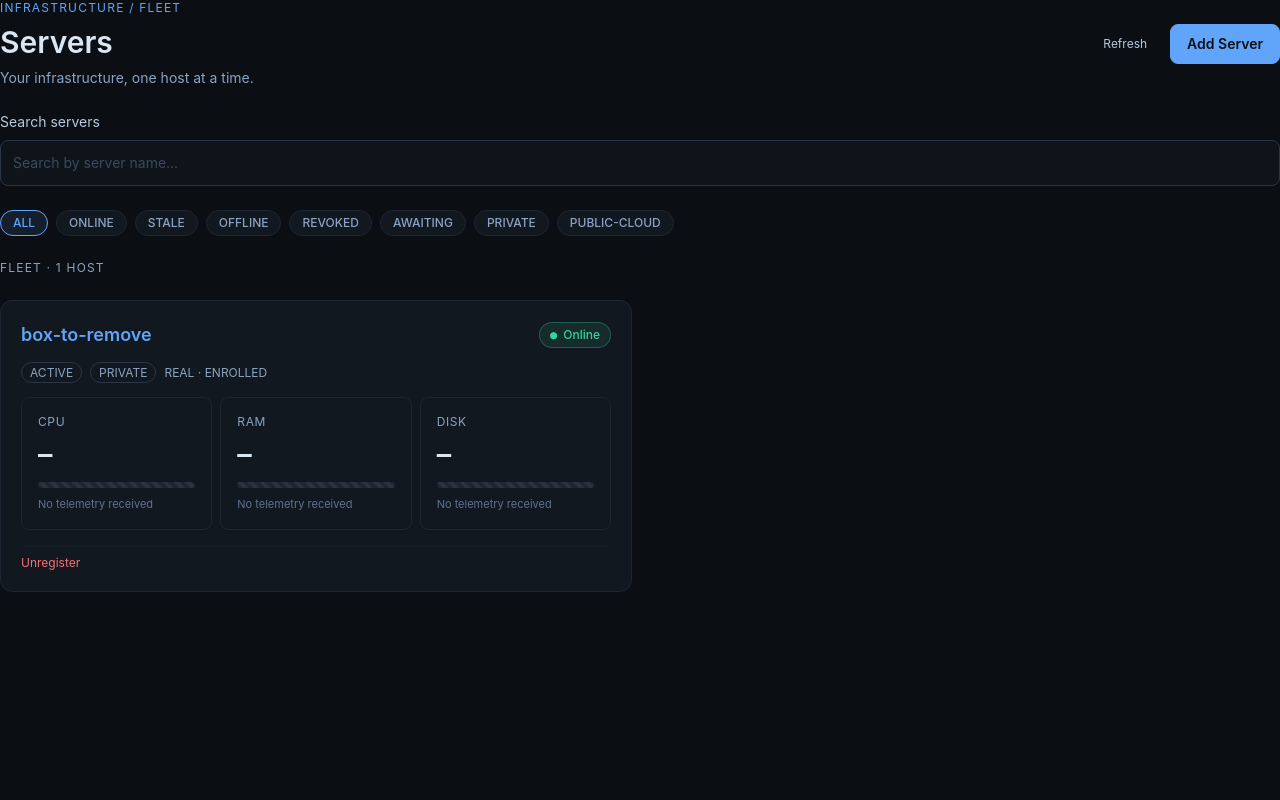
Servers view (fleet + filters + awaiting rows) › safe unregister dialog revokes host upon typed host id confirmation
expect the link "box-to-remove" is shown: met, box [21, 321, 152, 349]
Click the button with aria-label "unregister box-to-remove" at (51, 562), box [21, 554, 80, 570]
(page scrolled)
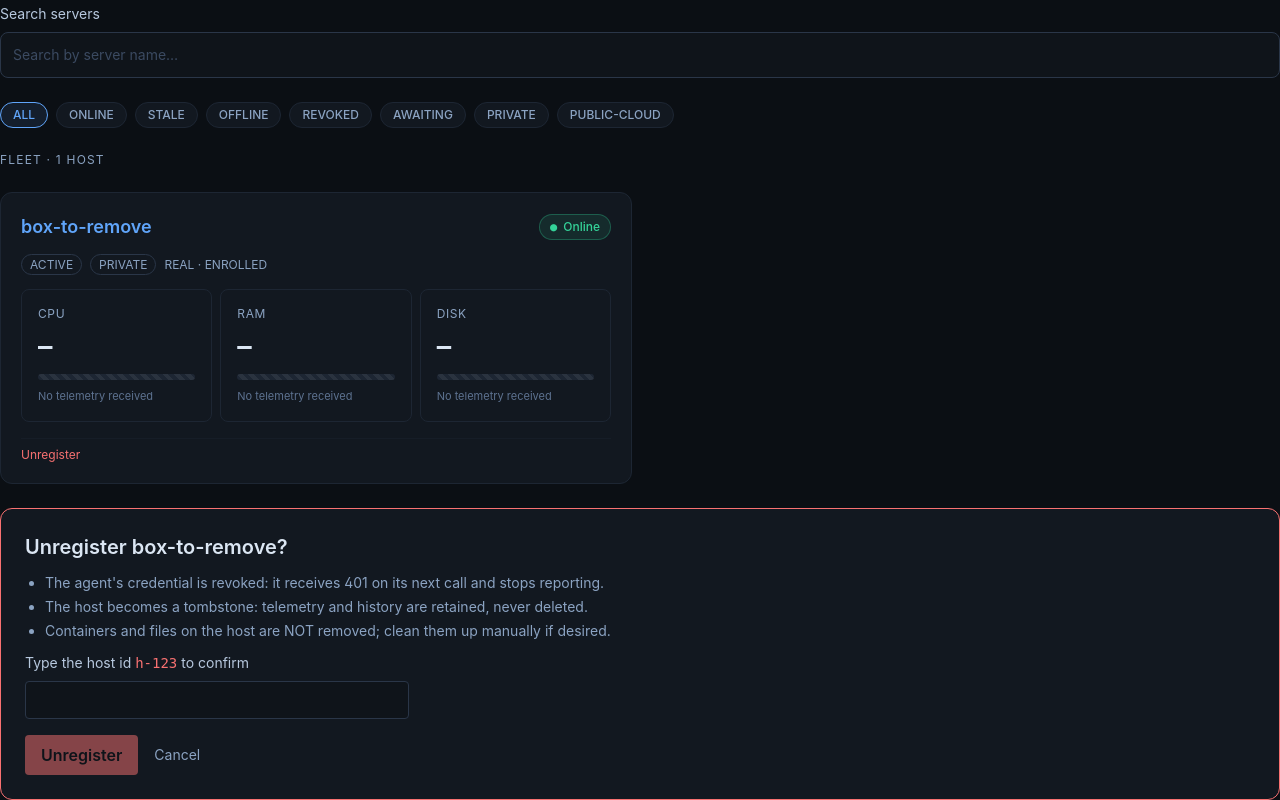
expect the list item "telemetry and history are retained" is shown: met, box [45, 598, 588, 614]
expect the button "Unregister" below "Type the host id" is disabled: met, box [25, 734, 138, 774]
Note: Type the host id to confirm
Type "h-123" into the field labelled "Type the host id h-123 to confirm" at (217, 700), box [25, 680, 409, 718]
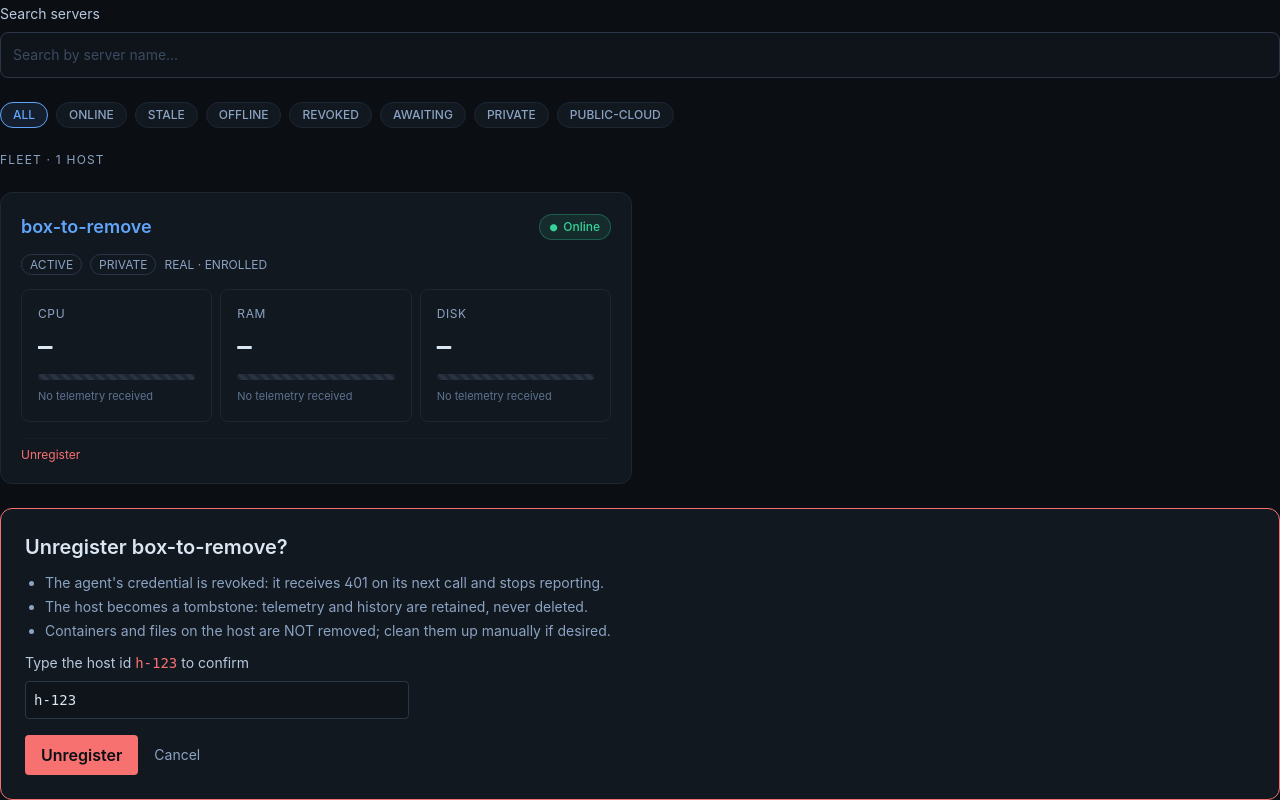
expect the button "Unregister" below "Type the host id" is enabled: met
Click the button "Unregister" below "Type the host id" at (82, 754), box [25, 734, 138, 774]
(page scrolled)
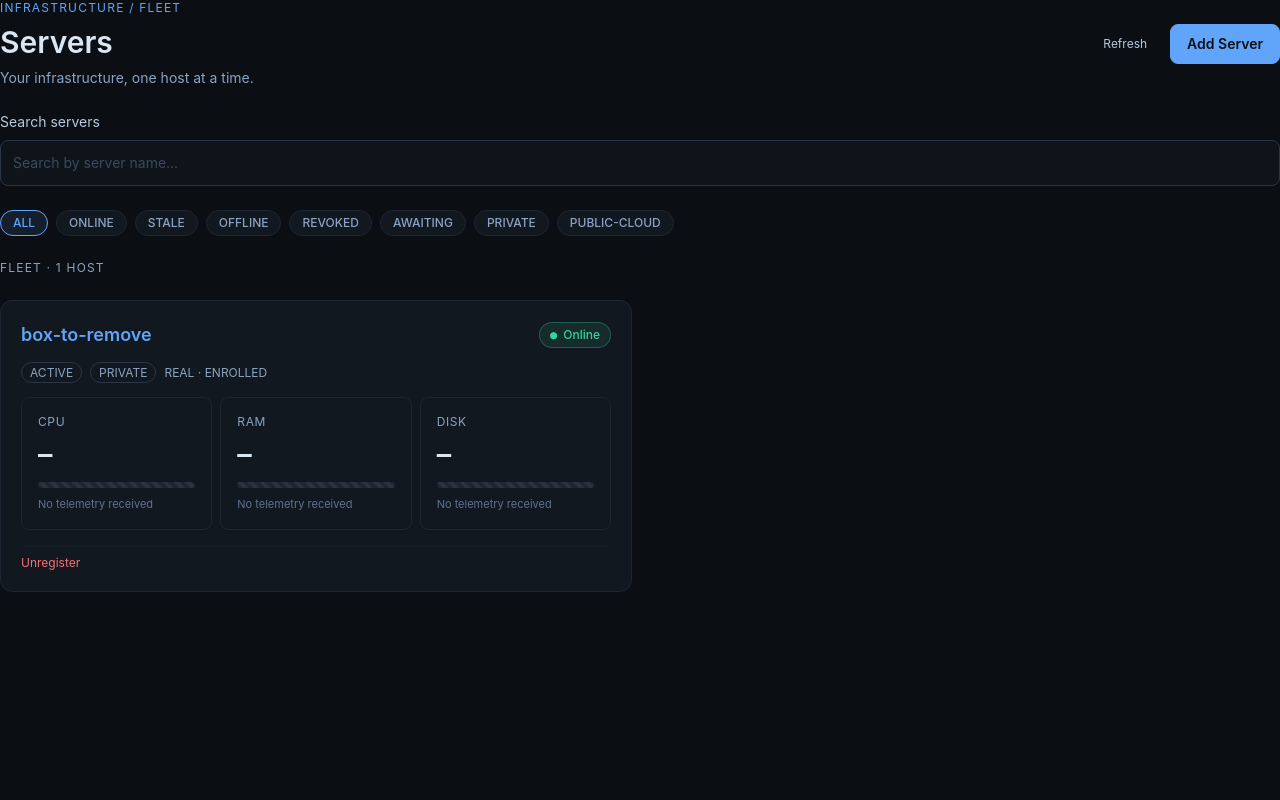
expect the label labelled "Type the host id h-123 to confirm" is gone: met
